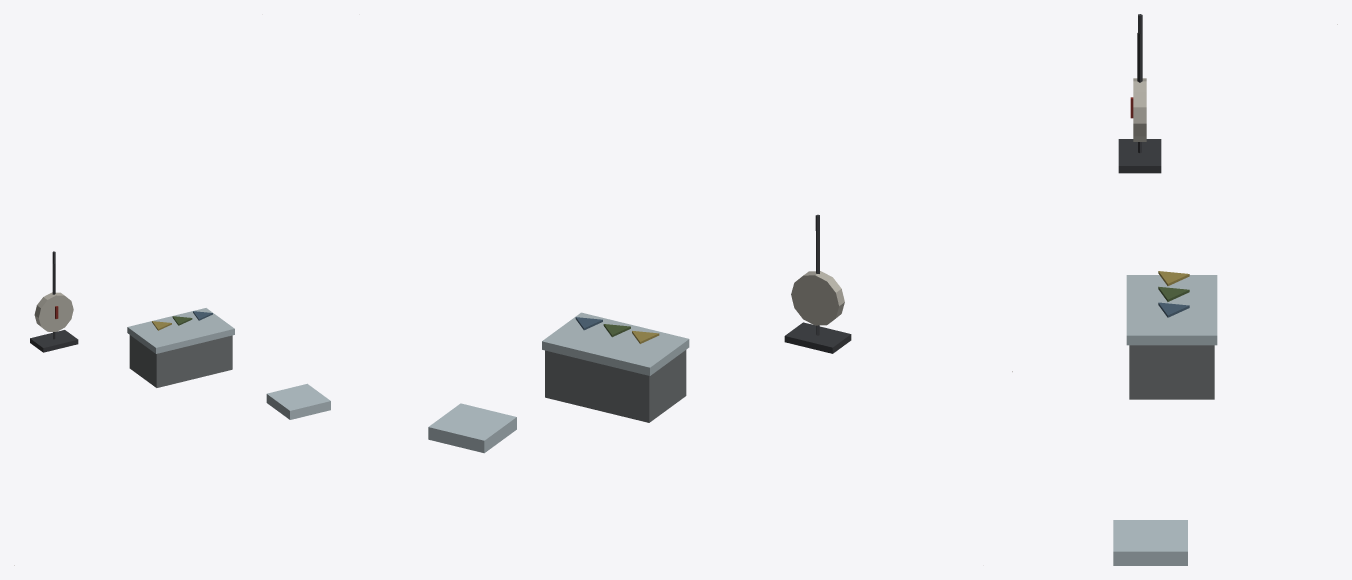
The model's file is FishBuyerStand_metal.glb.
3 views of the same model, side by side, from view 1: azimuth 30°, elevation 25°; view 2: azimuth 150°, elevation 25°; view 3: azimuth 270°, elevation 25° (orthographic). The views are drawn at different scales.
Parts seen in each view (by area): view 1: FishBuyerStand_metal; view 2: FishBuyerStand_metal; view 3: FishBuyerStand_metal.
Part boxes in pixels (<box>): FishBuyerStand_metal: <box>14,251,330,565</box>; FishBuyerStand_metal: <box>428,214,851,453</box>; FishBuyerStand_metal: <box>1012,14,1337,565</box>.
Bounding box in the file's own units: 12.05 × 12.8 × 6.11.
